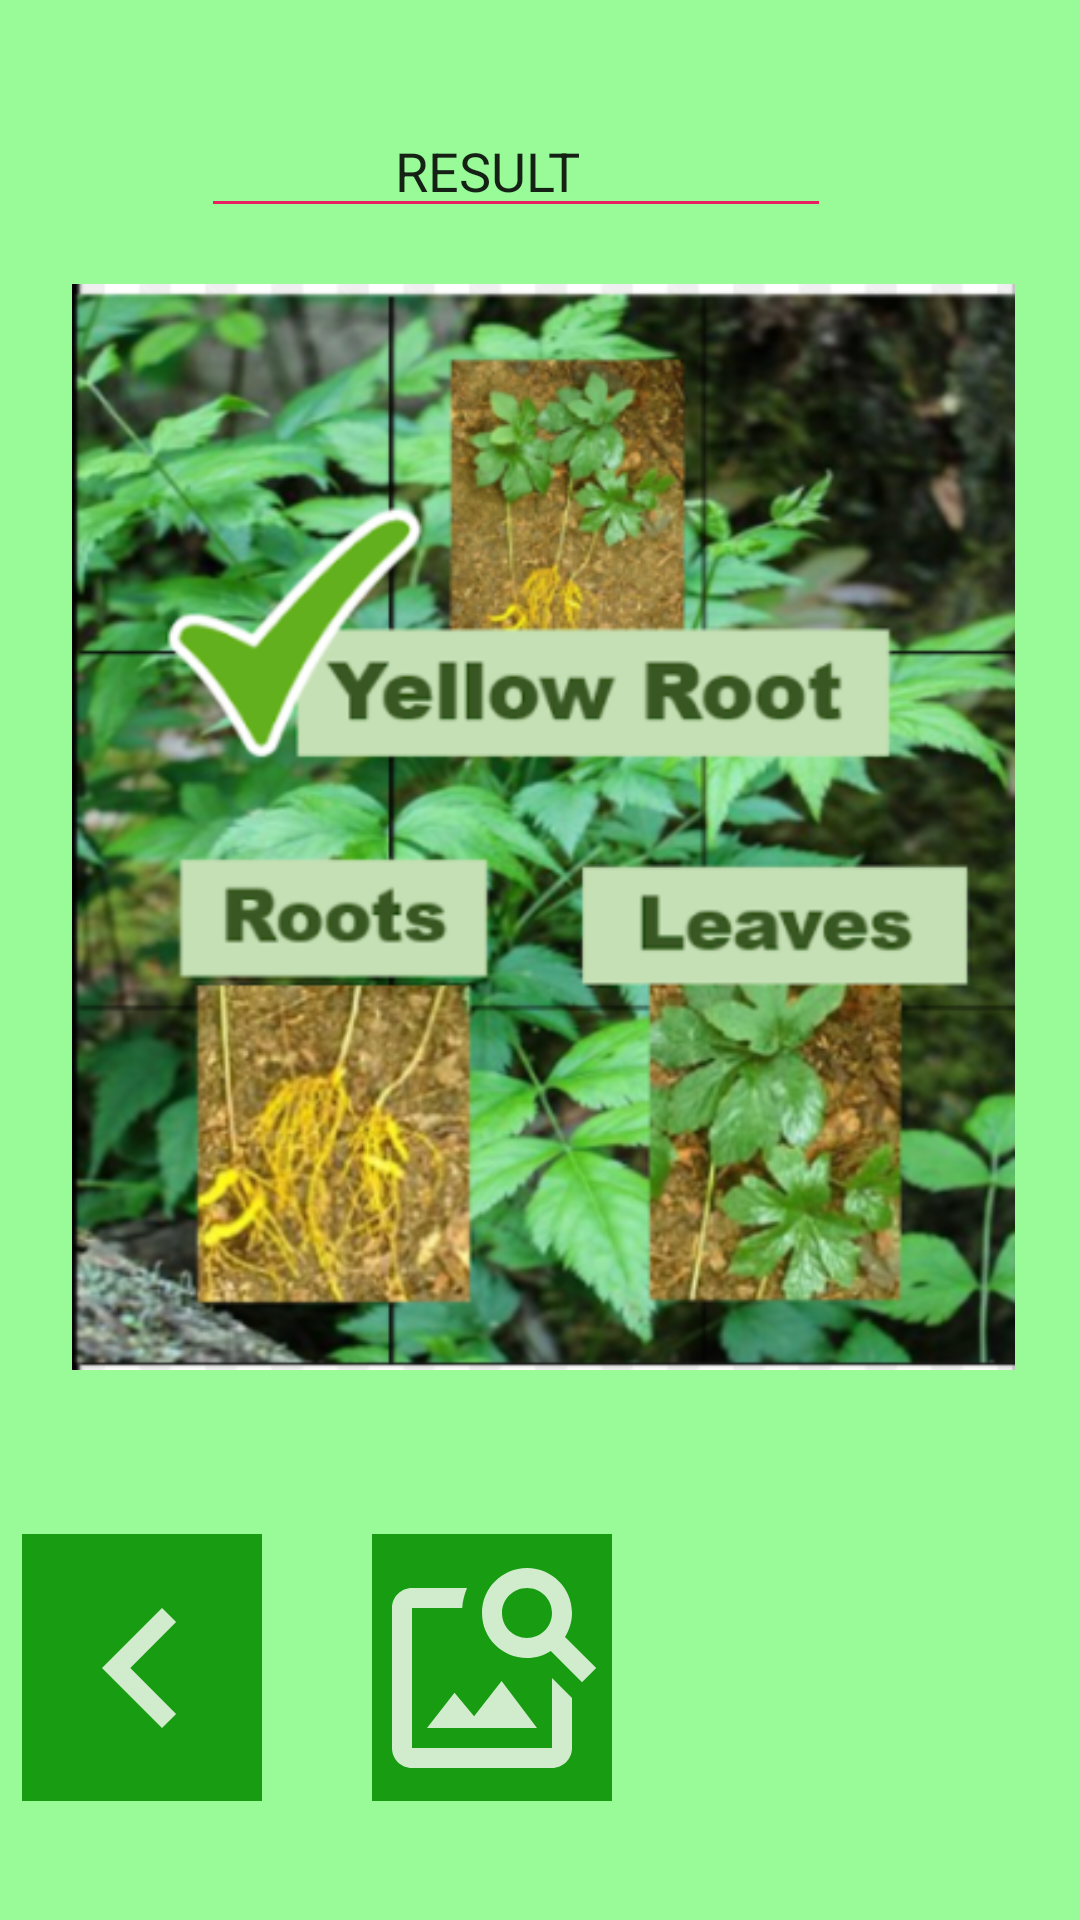

Locate icon controls on the screen. Image size 1080 x 1920, boxes as (x1, y1, x2, y2).
search: (372, 1534, 612, 1801)
